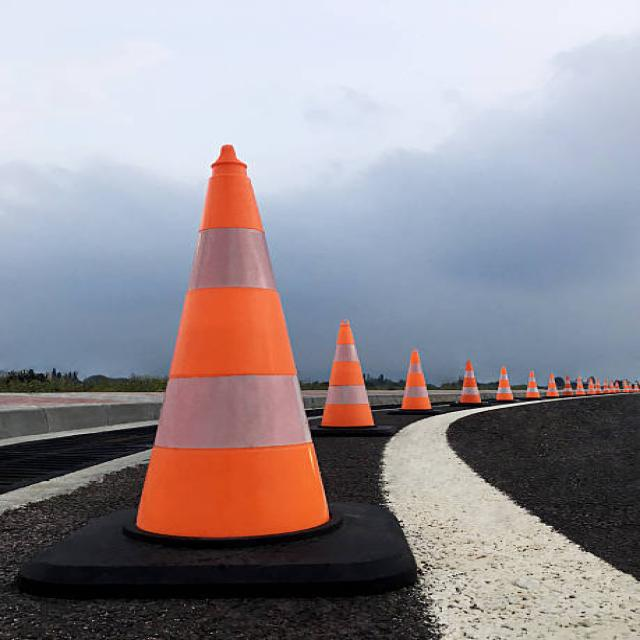Traffic Cone: (7, 99, 446, 606), (304, 302, 406, 439), (386, 336, 442, 415), (444, 350, 493, 415)
